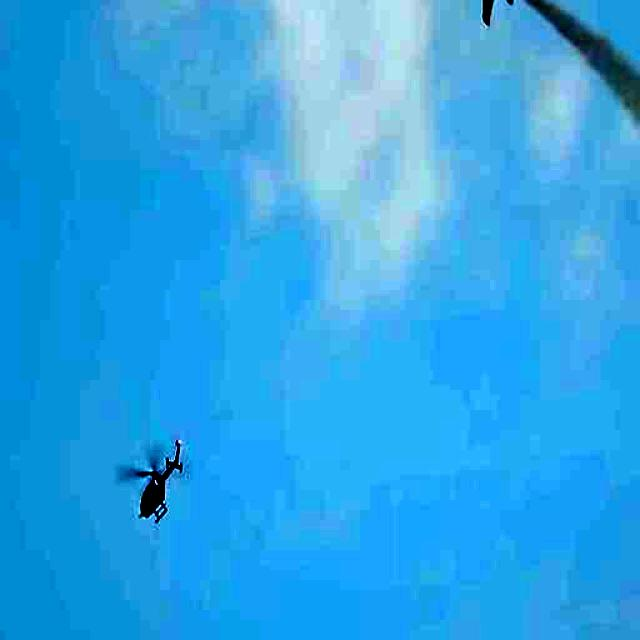drone: (124, 421, 190, 528)
